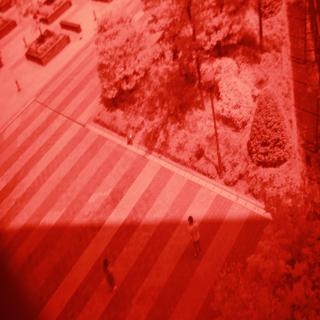person: (184, 213, 211, 262), (96, 250, 122, 295)
